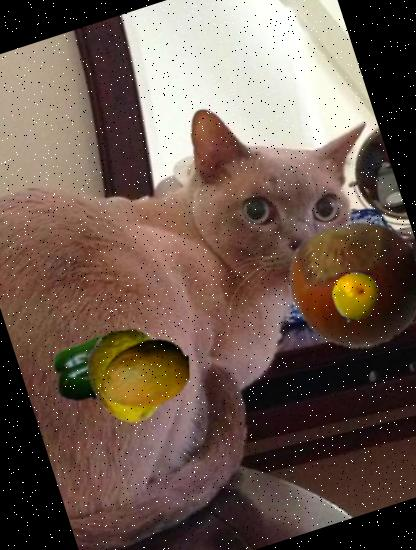Guava: (68, 317, 188, 437)
Maracuja: (324, 265, 388, 329)
Nut: (274, 205, 416, 369)
Papaya: (88, 317, 200, 429)
Pepper: (43, 320, 138, 415)
